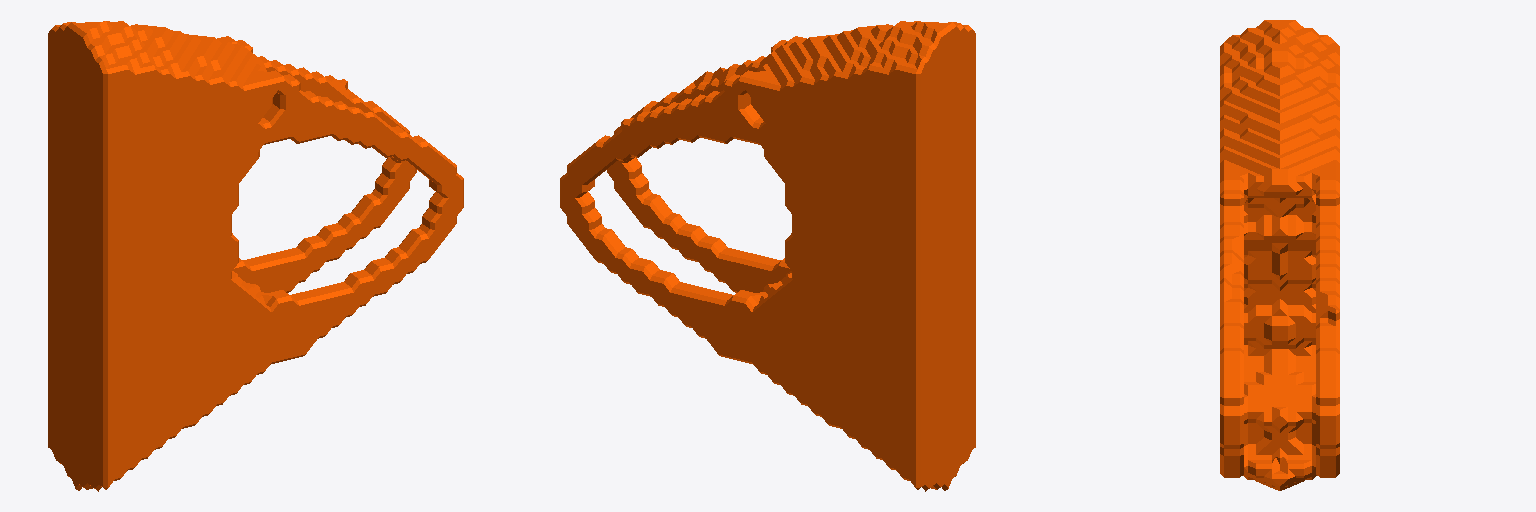
URDF robot description (Purse_red_f58):
<robot name="Purse_red_f58">
   <material name="obj_color">
      <color rgba="1.0 0.423529411765 0.0392156862745 1.0" />
   </material>
   <link name="top">
      <inertial>
         <origin rpy="0.0001644608653705239 0.0003616440876300933 0.0004731527346598681" xyz="-0.012599128481747 -1.357629357905778e-05 -0.0004485861005229118" />
         <mass value="0.24875" />
         <inertia ixx="0.0003616432659098582" ixy="-1.897787572488393e-07" ixz="4.75252149232376e-07" iyy="0.0004731523839335382" iyz="-9.172863039757414e-08" izz="0.0001644620378170887" />
      </inertial>
      <visual>
         <origin rpy="0 0 0" xyz="0 0 0" />
         <geometry>
            <mesh filename="top_watertight_tiny.stl" scale="1 1 1" />
         </geometry>
         <material name="obj_color" />
      </visual>
      <collision>
         <origin rpy="0 0 0" xyz="0 0 0" />
         <geometry>
            <mesh filename="top_watertight_tiny.obj" scale="1 1 1" />
         </geometry>
      </collision>
   </link>
   <link name="bottom">
      <inertial>
         <origin rpy="1.633333333194242e-08 1.633333333194243e-08 1.633333333357667e-08" xyz="0.3464080000000008 0.3464080000000008 0.3464080000000008" />
         <mass value="0.0009800000000000017" />
         <inertia ixx="1.633333333248717e-08" ixy="5.447480642029219e-19" ixz="5.447480642029219e-19" iyy="1.633333333248717e-08" iyz="5.447480642029219e-19" izz="1.633333333248717e-08" />
      </inertial>
      <visual>
         <origin rpy="0 0 0" xyz="0 0 0" />
         <geometry>
            <mesh filename="bottom_watertight_tiny.stl" scale="1 1 1" />
         </geometry>
         <material name="obj_color" />
      </visual>
   </link>
   <link name="world" />
   <joint name="world_to_base" type="fixed">
      <origin xyz="0 0 0" />
      <axis xyz="0 0 0" />
      <parent link="world" />
      <child link="bottom" />
   </joint>
   <joint name="rotation" type="revolute">
      <origin xyz="0 0 0" />
      <axis xyz="0 0 -1" />
      <parent link="bottom" />
      <child link="top" />
      <dynamics damping="1.0" friction="1.0" />
      <limit effort="0.1" velocity="0.1" lower="0" upper="0.001" />
   </joint>
</robot>

--- What the picture shows (computed from the rendered views, not written in the file) ---
The picture shows the robot from 3 angles, left to right: view 1: azimuth 30°, elevation 25°; view 2: azimuth 150°, elevation 25°; view 3: azimuth 270°, elevation 25°; orthographic projection.
Model Purse_red_f58 with 3 links and 2 joints (1 revolute, 1 fixed), rooted at world, posed every joint at zero.
Visible links, largest first — view 1: top; view 2: top; view 3: top.
Link boxes in pixels (left/top/right/bottom): top: left=48, top=21, right=463, bottom=491; top: left=560, top=21, right=975, bottom=491; top: left=1220, top=20, right=1339, bottom=490.
Bounding box of the posed robot: 0.1241 × 0.0351 × 0.1522 m (x, y, z).
1 mesh visuals loaded from 2 distinct referenced files (1 binary STL); not drawn: 1 (reference not matched to a file when rendering).